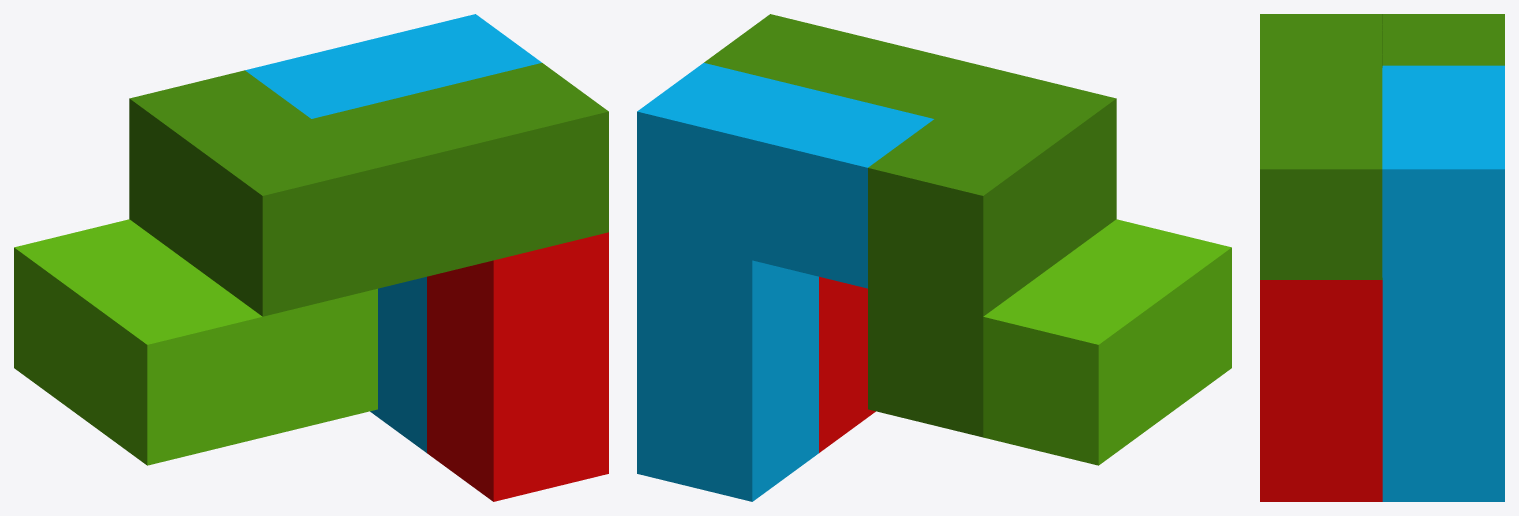
3 renders of one model, left to right at view 1: azimuth 30°, elevation 25°; view 2: azimuth 150°, elevation 25°; view 3: azimuth 270°, elevation 25°, orthographic. The views are drawn at different scales.
Parts seen in each view (by area): view 1: mergedBlocks(Clone); view 2: mergedBlocks(Clone); view 3: mergedBlocks(Clone).
Part boxes in pixels (x1=…): mergedBlocks(Clone): x1=14, y1=14, x2=608, y2=501; mergedBlocks(Clone): x1=637, y1=14, x2=1231, y2=501; mergedBlocks(Clone): x1=1260, y1=14, x2=1504, y2=501.
Bounding box in the file's own units: 4 × 3 × 2.
4 materials, 4 textured.
